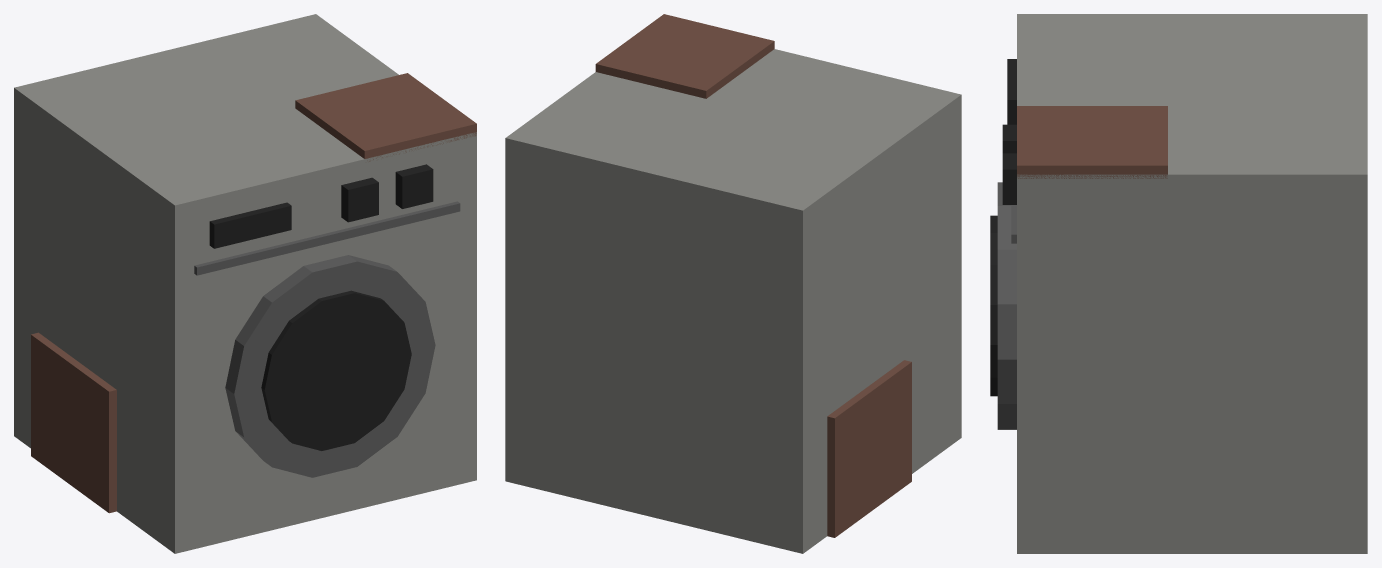
File: junk_washing_machine.obj
3 views of the same model, side by side, from view 1: azimuth 30°, elevation 25°; view 2: azimuth 150°, elevation 25°; view 3: azimuth 270°, elevation 25° (orthographic). The views are drawn at different scales.
Parts seen in each view (by area): view 1: junk_washing_machine_0, junk_washing_machine_2, junk_washing_machine_1, junk_washing_machine_8, junk_washing_machine_7, junk_washing_machine_3, junk_washing_machine_4, junk_washing_machine_6, junk_washing_machine_5; view 2: junk_washing_machine_0, junk_washing_machine_8, junk_washing_machine_7; view 3: junk_washing_machine_0, junk_washing_machine_7, junk_washing_machine_1, junk_washing_machine_2, junk_washing_machine_6, junk_washing_machine_4.
Boxes of the visible parts, box(x1,y1,x2,y2) form: junk_washing_machine_0: box(14, 14, 476, 553); junk_washing_machine_2: box(261, 290, 411, 450); junk_washing_machine_1: box(225, 255, 435, 477); junk_washing_machine_8: box(31, 332, 116, 513); junk_washing_machine_7: box(295, 73, 476, 161); junk_washing_machine_3: box(194, 201, 460, 275); junk_washing_machine_4: box(209, 202, 291, 248); junk_washing_machine_6: box(395, 164, 433, 208); junk_washing_machine_5: box(341, 177, 378, 222); junk_washing_machine_0: box(505, 49, 961, 553); junk_washing_machine_8: box(827, 360, 911, 537); junk_washing_machine_7: box(595, 14, 774, 98); junk_washing_machine_0: box(1017, 14, 1367, 553); junk_washing_machine_7: box(1017, 106, 1167, 178); junk_washing_machine_1: box(997, 182, 1016, 429); junk_washing_machine_2: box(990, 215, 997, 396); junk_washing_machine_6: box(1002, 153, 1016, 204); junk_washing_machine_4: box(1007, 59, 1016, 124).
Size of the model in its own units: 0.8 by 0.88 by 0.775.
